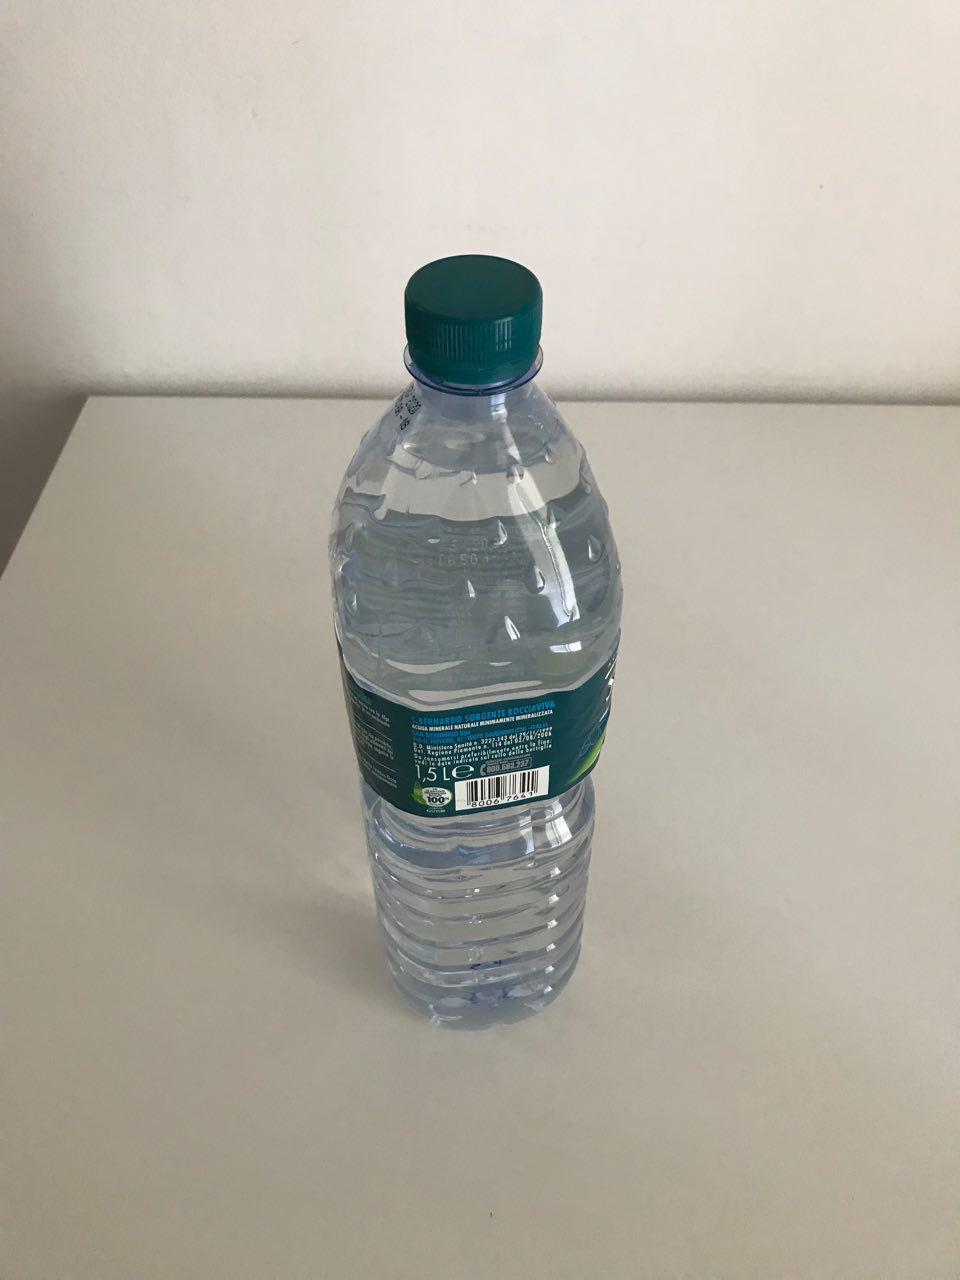san_bernardo: (325, 252, 628, 1035)
